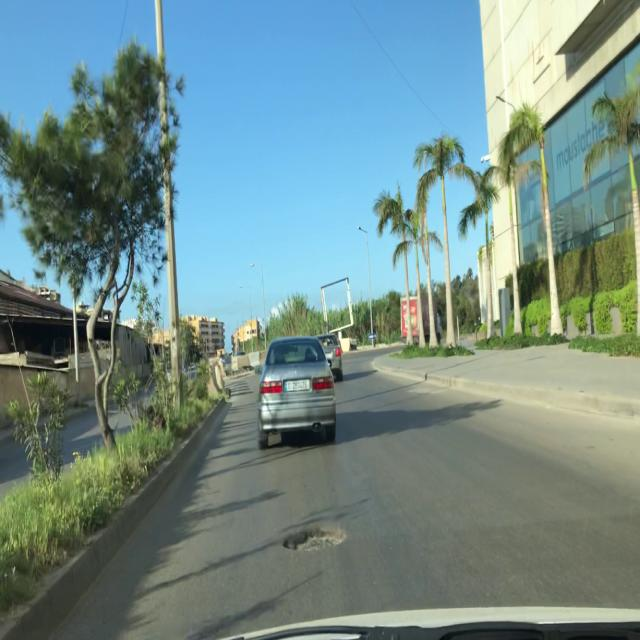Pothole: (276, 519, 352, 563)
